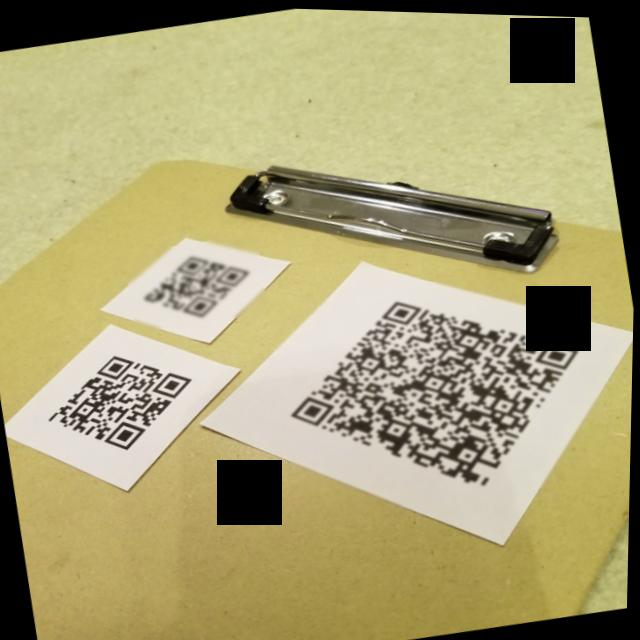QR_CODE: (264, 250, 616, 527), (25, 332, 216, 471), (123, 230, 271, 335)
